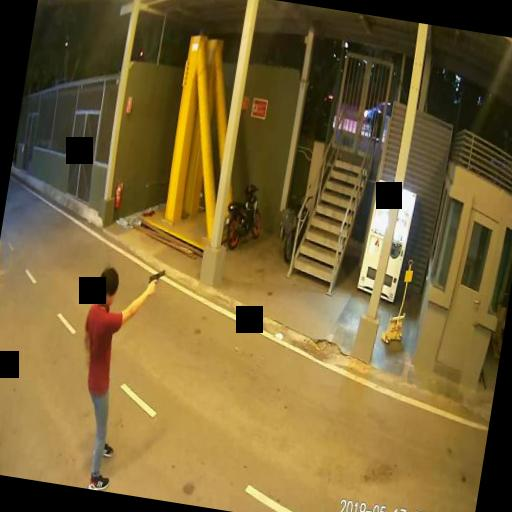Handgun: (145, 266, 163, 294)
